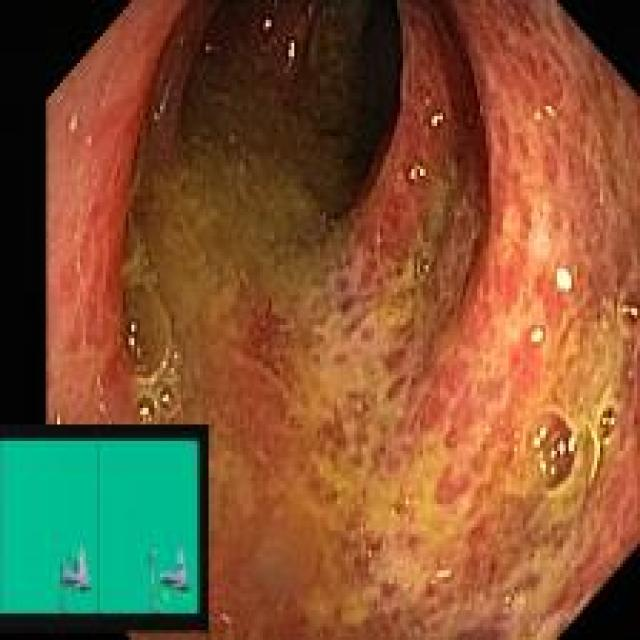ulcerative-colitis-grade-2-3: (49, 3, 640, 638)
